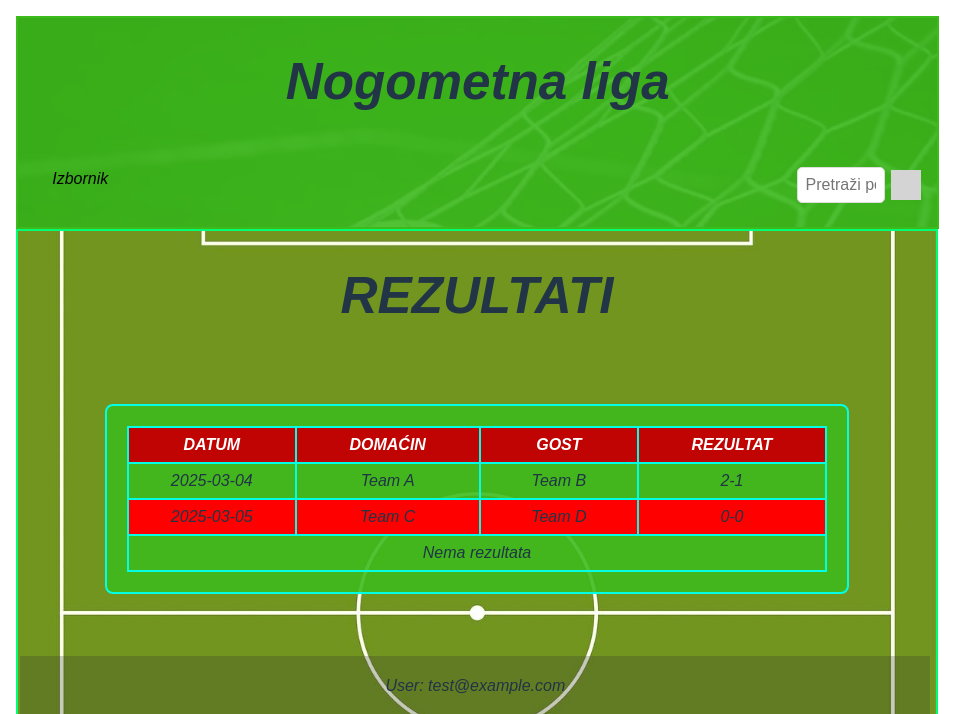
Scenario: MainPage Component › filters data based on search term
The width and height of the screenshot is (956, 714).
Type "Team A" into the field with placeholder "Pretraži po klubu...".
click(841, 185); type("Team A")  # box [797, 167, 885, 203]
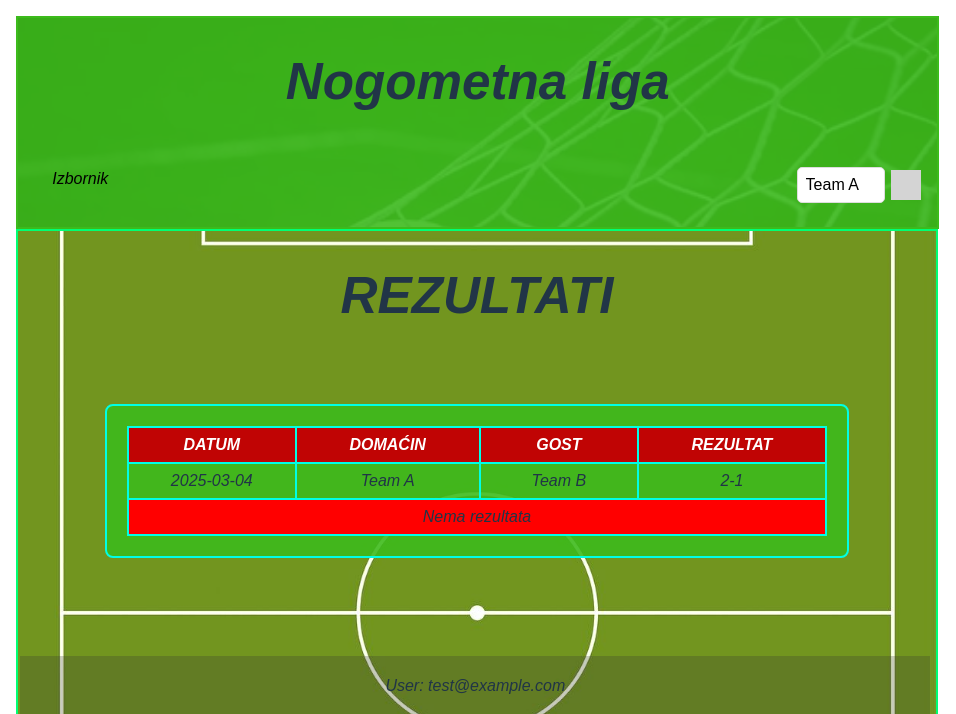
Expected: the text "Team A" is shown, [296, 463, 480, 499]
Result: the text "Team C" is gone
